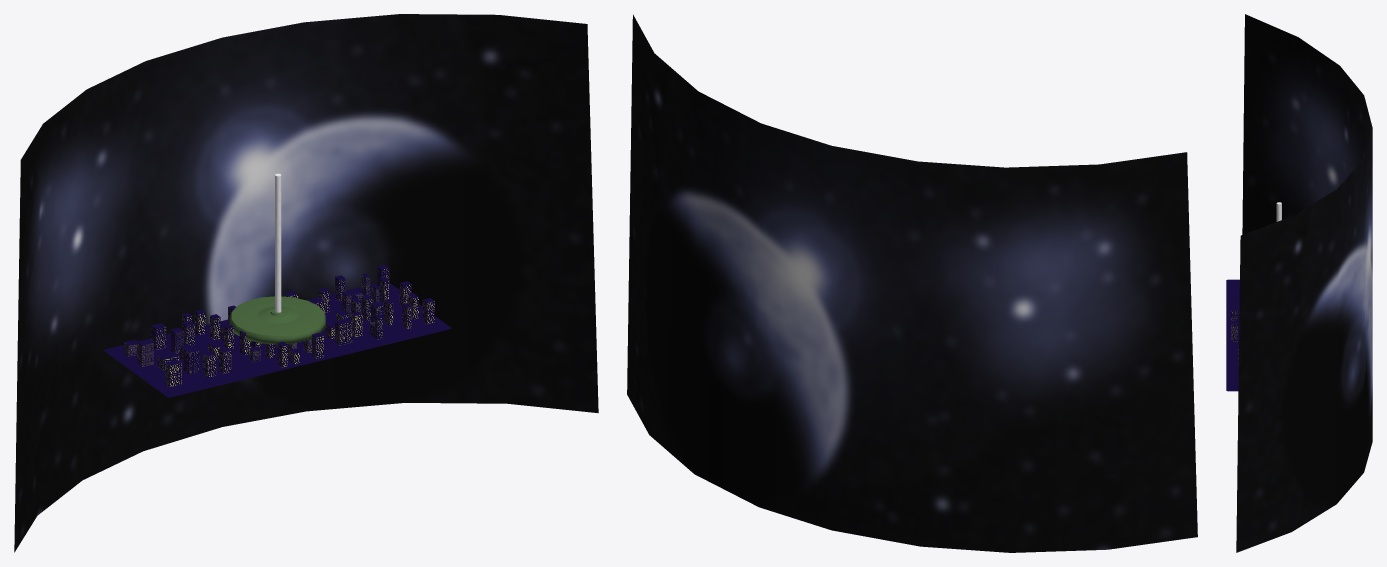
The model's file is SciFi.fbx.
3 renders of one model, left to right at view 1: azimuth 30°, elevation 25°; view 2: azimuth 150°, elevation 25°; view 3: azimuth 270°, elevation 25°, orthographic. The views are drawn at different scales.
Visible parts, largest first — view 1: SciFi_Env, SciFi_Base, SciFi_Disc, SciFi_Staff; view 2: SciFi_Env; view 3: SciFi_Env, SciFi_Base.
Boxes of the visible parts, left/top/right/bottom form: SciFi_Env: left=14, top=14, right=598, bottom=552; SciFi_Base: left=104, top=264, right=451, bottom=397; SciFi_Disc: left=230, top=296, right=325, bottom=344; SciFi_Staff: left=275, top=173, right=281, bottom=312; SciFi_Env: left=627, top=14, right=1197, bottom=552; SciFi_Env: left=1236, top=14, right=1372, bottom=552; SciFi_Base: left=1226, top=279, right=1239, bottom=391.
Size of the model in its own units: 35.95 by 23.28 by 9.72.
